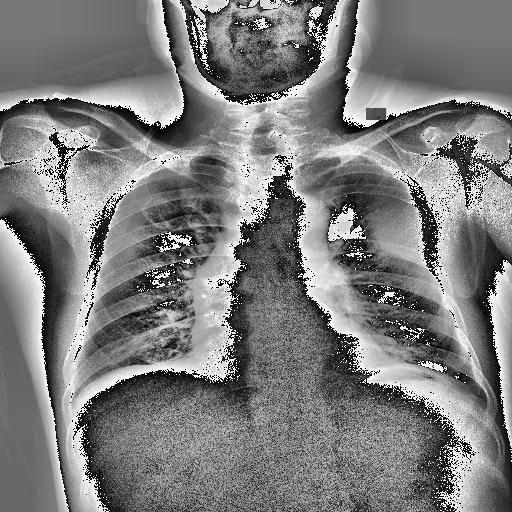0- Aortic enlargement: (267, 192, 331, 250), (268, 193, 328, 253), (267, 190, 329, 248)
11- Pleural thickening: (374, 197, 436, 269)
4- Consolidation: (358, 200, 438, 274)
7- Lung Opacity: (358, 200, 438, 274), (374, 197, 436, 269), (367, 199, 431, 267)
8- Nodule-Mass: (358, 200, 438, 274)
